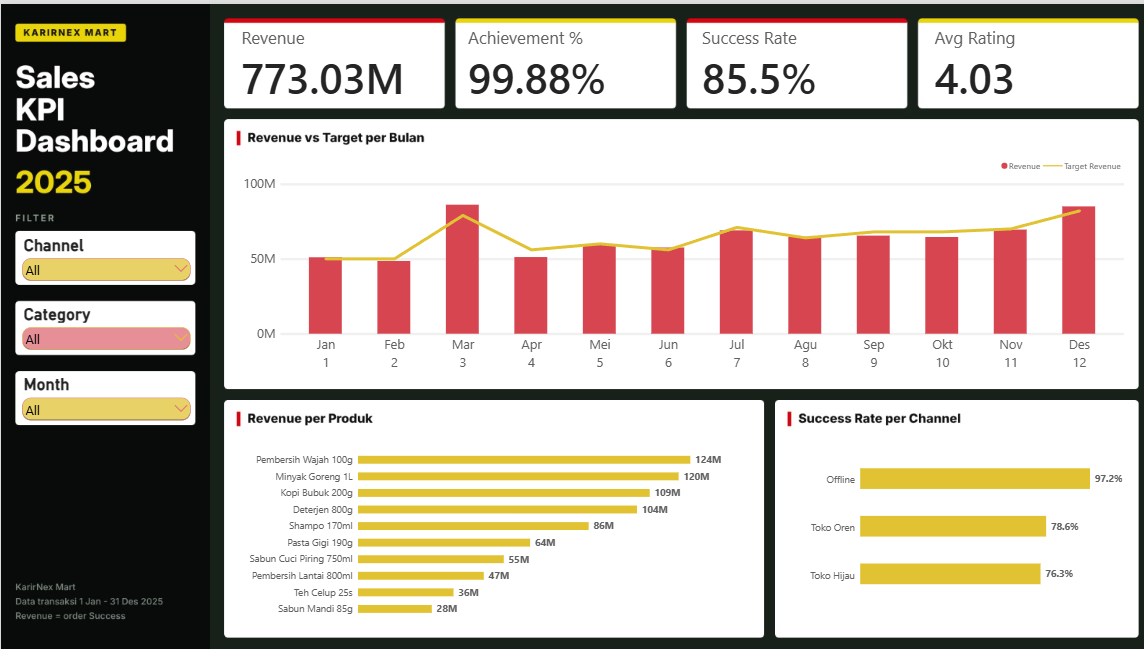

This screenshot's page, from the dashboard's own definition file:
{"tool":"powerbi","page":{"name":"Page 2","canvas":[1920,1080],"ordinal":1},"visuals":[{"type":"image","box":[0,0,1920,1080],"z":0},{"type":"cardVisual","fields":{"Data":["Sales.Revenue"]},"box":[385,43,345,120],"z":1000},{"type":"cardVisual","fields":{"Data":["Sales.Achievement %"]},"box":[762.5,42.5,345,120],"z":2000},{"type":"cardVisual","fields":{"Data":["Sales.Success Rate"]},"box":[1152.5,42.5,345,120],"z":3000},{"type":"cardVisual","fields":{"Data":["Sales.Avg Rating"]},"box":[1540,42.5,345,120],"z":4000},{"type":"barChart","fields":{"Category":["Products.product_name"],"Y":["Sales.Revenue"]},"box":[385,720,850,322.5],"z":5000},{"type":"clusteredBarChart","fields":{"Category":["Sales.channel"],"Y":["Sales.Success Rate"]},"box":[1325.7,720,560,300],"z":6000},{"type":"lineClusteredColumnComboChart","fields":{"Category":["Bulan_Target.month","Bulan_Target.month_name"],"Y":["Sales.Revenue"],"Y2":["Sales.Target Revenue"]},"box":[387.5,240,1500,397.5],"z":7000},{"type":"slicer","fields":{"Values":["Sales.channel"]},"box":[28.9,384.4,291.1,76.7],"z":8000},{"type":"slicer","fields":{"Values":["Products.category"]},"box":[30,500,291.1,76.7],"z":9000},{"type":"slicer","fields":{"Values":["Bulan_Target.month_name"]},"box":[30,616.7,291.1,76.7],"z":10000}]}

Visuals, with their boxes in screenshot pixels (x1, y1, x2, y2), scaled from the page's 1920x1080 canvas onto the 1144x649 screenshot:
image: {"left": 0, "top": 0, "right": 1143, "bottom": 648}
cardVisual - Sales.Revenue: {"left": 229, "top": 26, "right": 435, "bottom": 98}
cardVisual - Sales.Achievement %: {"left": 454, "top": 26, "right": 660, "bottom": 98}
cardVisual - Sales.Success Rate: {"left": 687, "top": 26, "right": 892, "bottom": 98}
cardVisual - Sales.Avg Rating: {"left": 918, "top": 26, "right": 1123, "bottom": 98}
barChart - Products.product_name x Sales.Revenue: {"left": 229, "top": 433, "right": 736, "bottom": 626}
clusteredBarChart - Sales.channel x Sales.Success Rate: {"left": 790, "top": 433, "right": 1124, "bottom": 613}
lineClusteredColumnComboChart - Bulan_Target.month x Bulan_Target.month_name: {"left": 231, "top": 144, "right": 1125, "bottom": 383}
slicer - Sales.channel: {"left": 17, "top": 231, "right": 191, "bottom": 277}
slicer - Products.category: {"left": 18, "top": 300, "right": 191, "bottom": 347}
slicer - Bulan_Target.month_name: {"left": 18, "top": 371, "right": 191, "bottom": 417}
